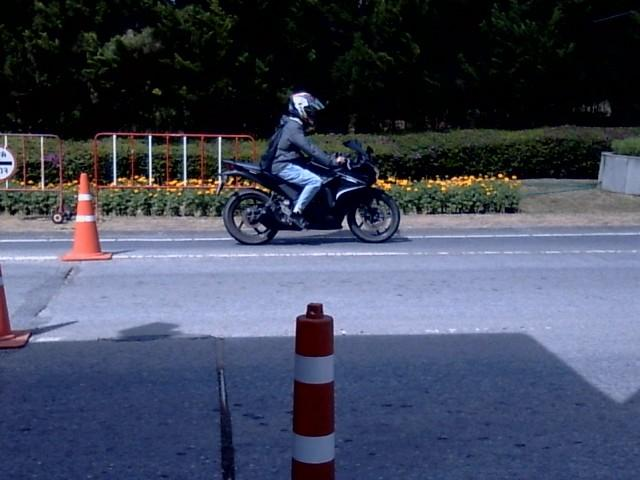helmet: (288, 89, 323, 125)
motor: (305, 139, 400, 242), (218, 161, 300, 244)
person: (268, 92, 345, 227)
